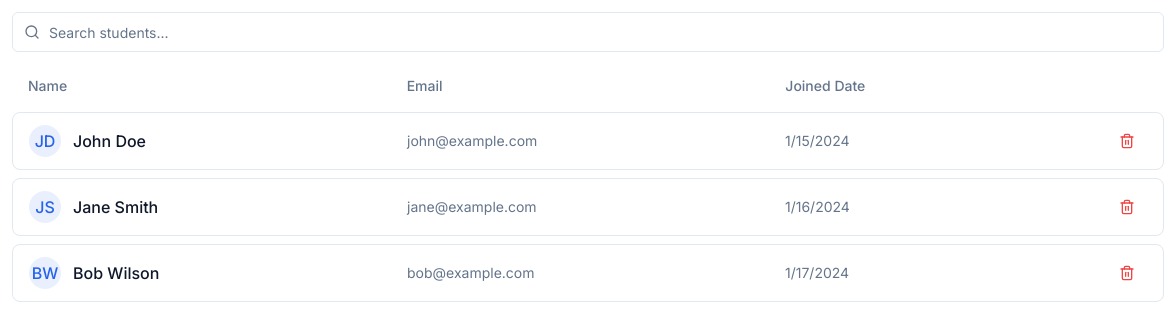
Test: StudentList › filters students by search term
The image size is (1176, 319).
Type "John" into the field with placeholder "Search students...".
click(588, 32); type("John")  # box [12,12,1164,52]
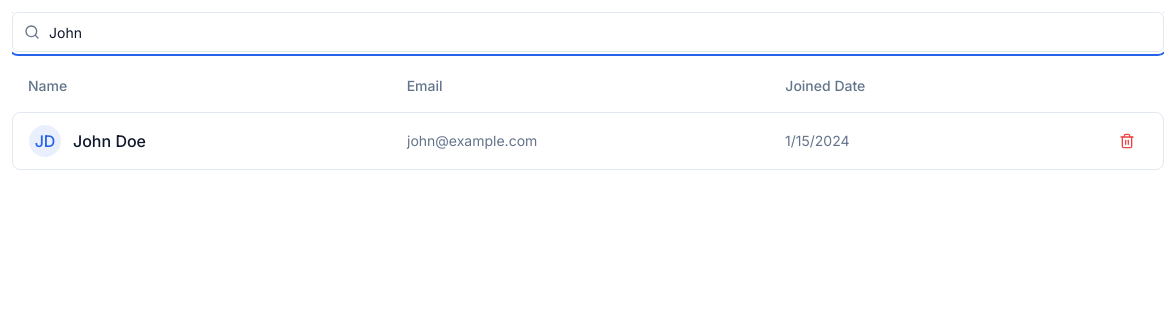
expect the text "John Doe" is shown: met, box [73,129,146,153]
expect the text "Jane Smith" is gone: met
